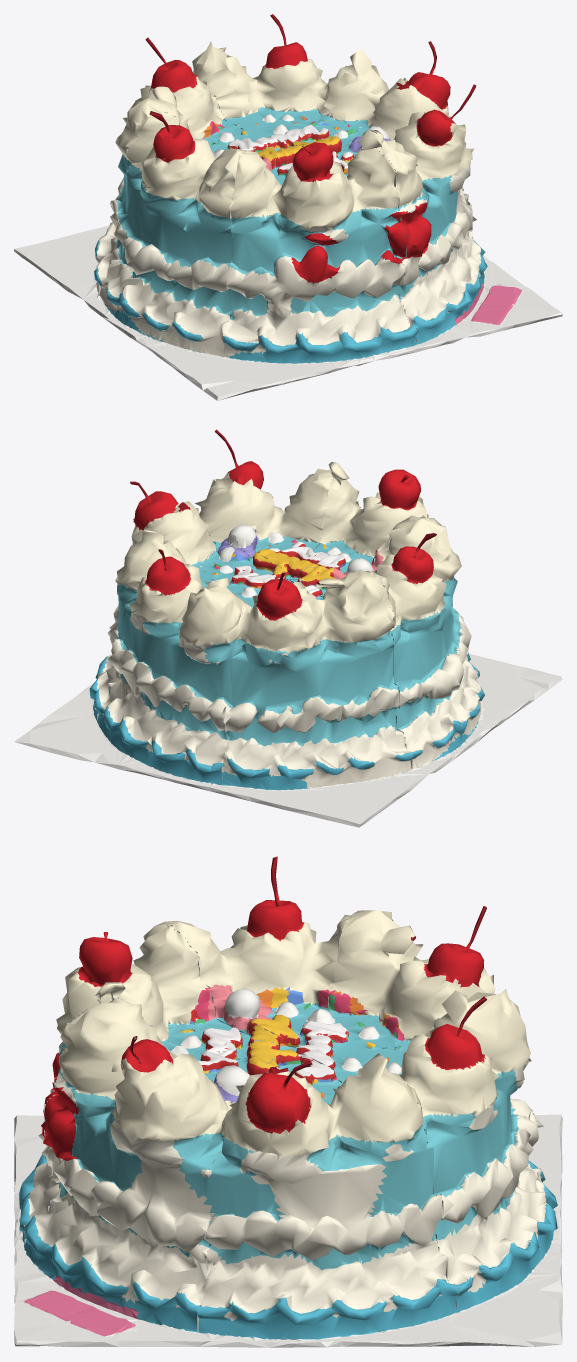
File: VintageLetteringCakeSliced.gltf
3 renders of one model, top to bottom at view 1: azimuth 30°, elevation 25°; view 2: azimuth 150°, elevation 25°; view 3: azimuth 270°, elevation 25°, orthographic. The views are drawn at different scales.
Visible parts, largest first — view 1: Slice4, Slice3, Slice5, Board, Slice1, Slice2, Slice6; view 2: Slice2, Slice1, Slice3, Board, Slice6, Slice5, Slice4; view 3: Slice6, Slice5, Slice1, Board, Slice2, Slice4, Slice3.
Boxes of the visible parts, x1,y1,x2,y2 form: Slice4: (222,130,416,363); Slice3: (97,111,283,356); Slice5: (295,84,487,344); Board: (14,225,562,400); Slice1: (192,14,333,148); Slice2: (94,37,284,294); Slice6: (292,41,483,257); Slice2: (222,569,413,790); Slice1: (95,549,287,785); Slice3: (289,518,484,769); Board: (14,653,562,827); Slice6: (89,481,288,721); Slice5: (195,429,335,580); Slice4: (289,462,479,681); Slice6: (197,1049,458,1339); Slice5: (24,983,283,1332); Slice1: (296,989,557,1312); Board: (14,1114,562,1347); Slice2: (293,906,545,1183); Slice4: (18,924,279,1246); Slice3: (156,856,354,1050).
Bounding box in the file's own units: 3.02 × 1.75 × 3.06.
Materials: 1 (1 with a texture image).
